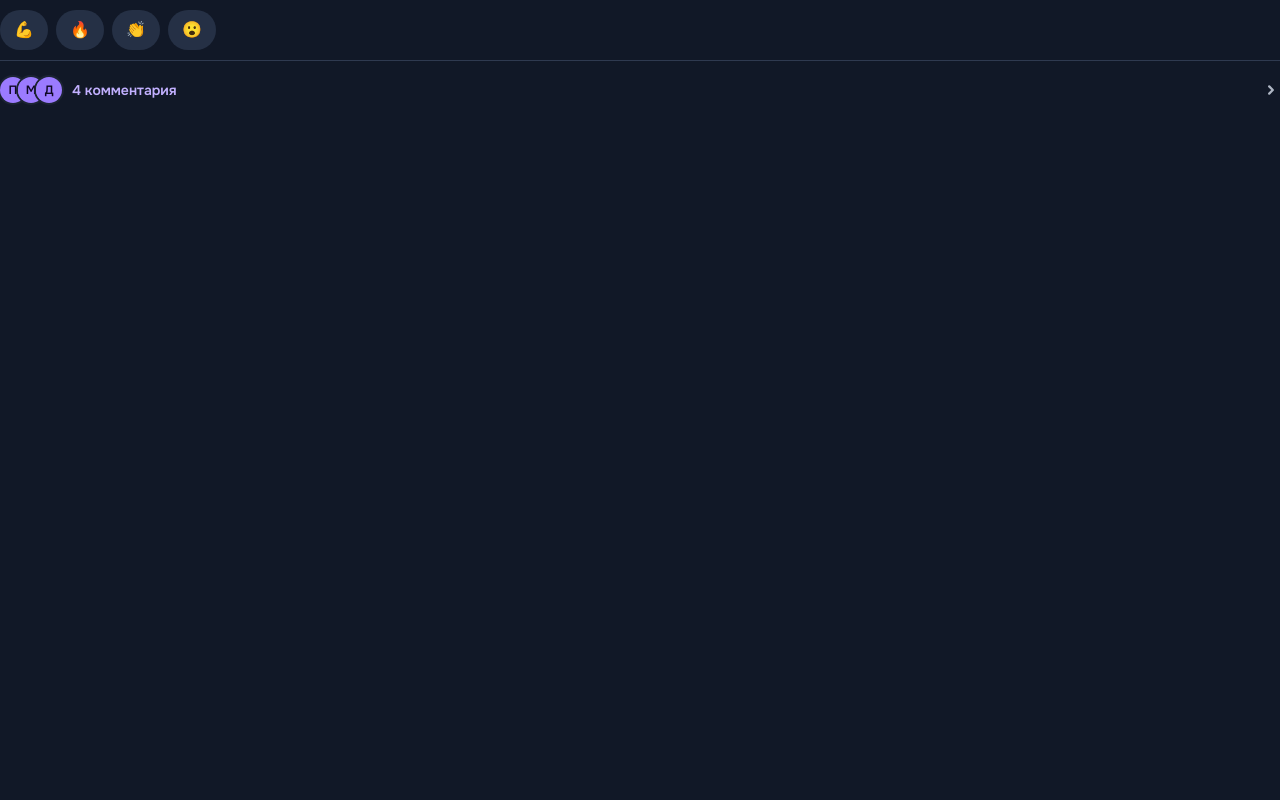
Test: WorkoutSocial — строка комментариев › в листе блок ввода — одним узлом в подвале листа, вне прокрутки переписки; без подписи «Видят все…»
Click the button "П М Д 4 комментария" at (124, 90), box [0,60,1279,104]
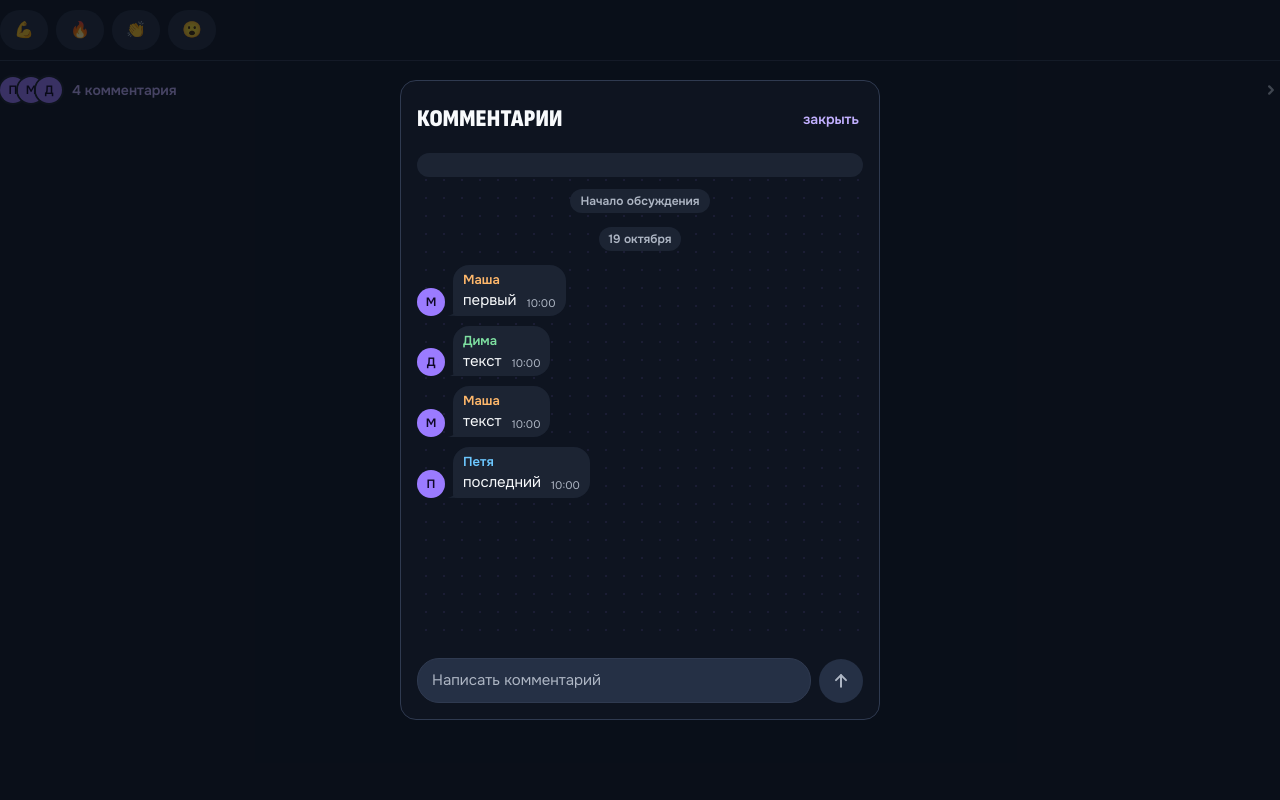
Check: the text "последний" is shown, box [463,472,541,492]
